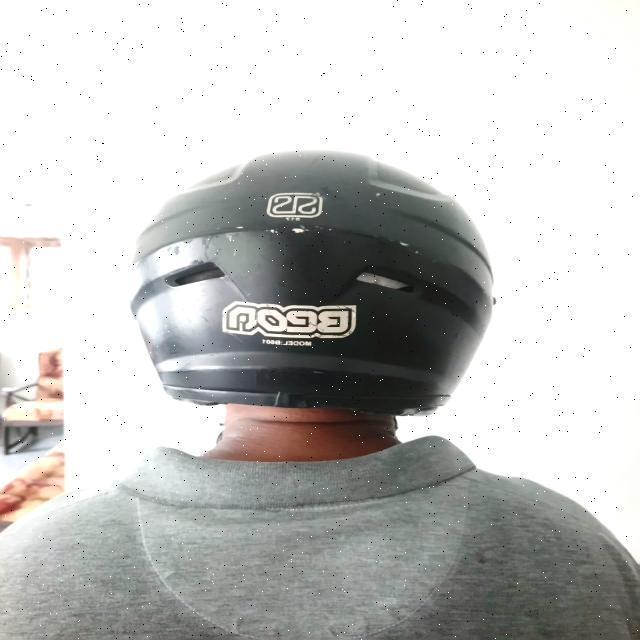helmet: (129, 148, 498, 417)
